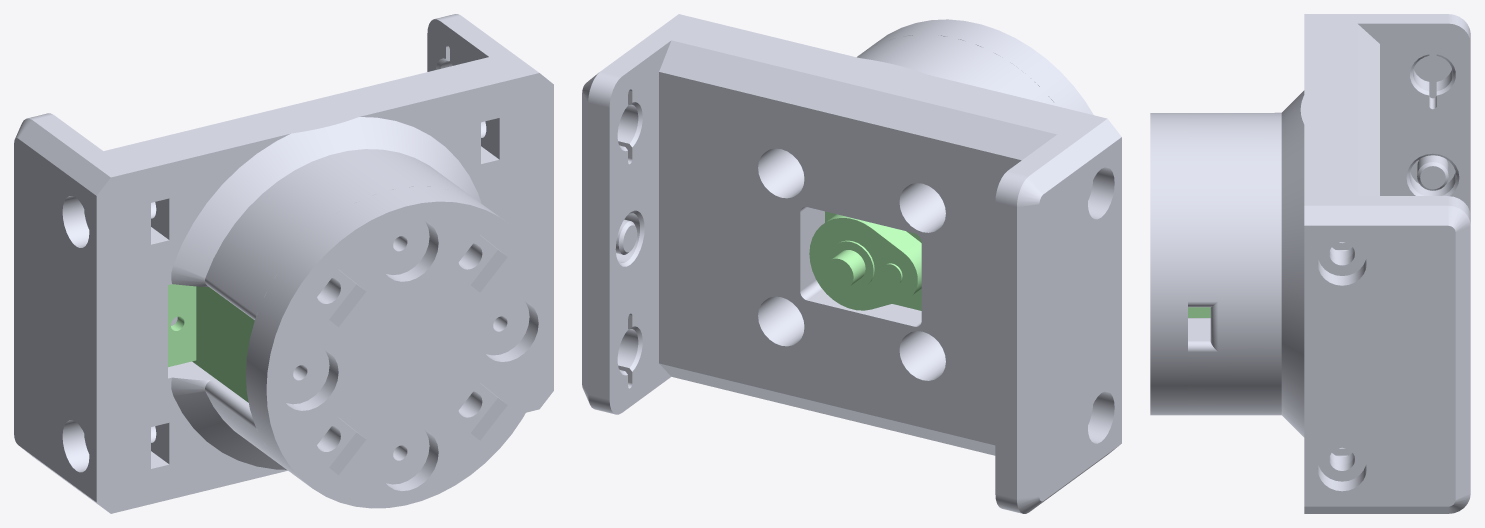
The model's file is Gripper.glb.
The picture shows the model from 3 angles, left to right: view 1: azimuth 30°, elevation 25°; view 2: azimuth 150°, elevation 25°; view 3: azimuth 270°, elevation 25°; orthographic projection. The views are drawn at different scales.
Parts seen in each view (by area): view 1: Body_1 (×5); view 2: Body_1 (×5); view 3: Body_1 (×4).
Boxes of the visible parts, x1=… form: Body_1 (×5): x1=14, y1=14, x2=553, y2=513; Body_1 (×5): x1=582, y1=14, x2=1121, y2=513; Body_1 (×4): x1=1150, y1=14, x2=1470, y2=513.
Size of the model in its own units: 6.4e-05 by 4.5e-05 by 4.24e-05.
